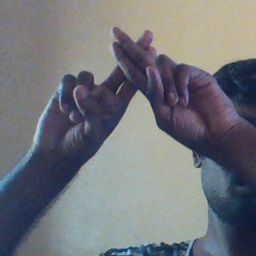F: (79, 18, 192, 125)
